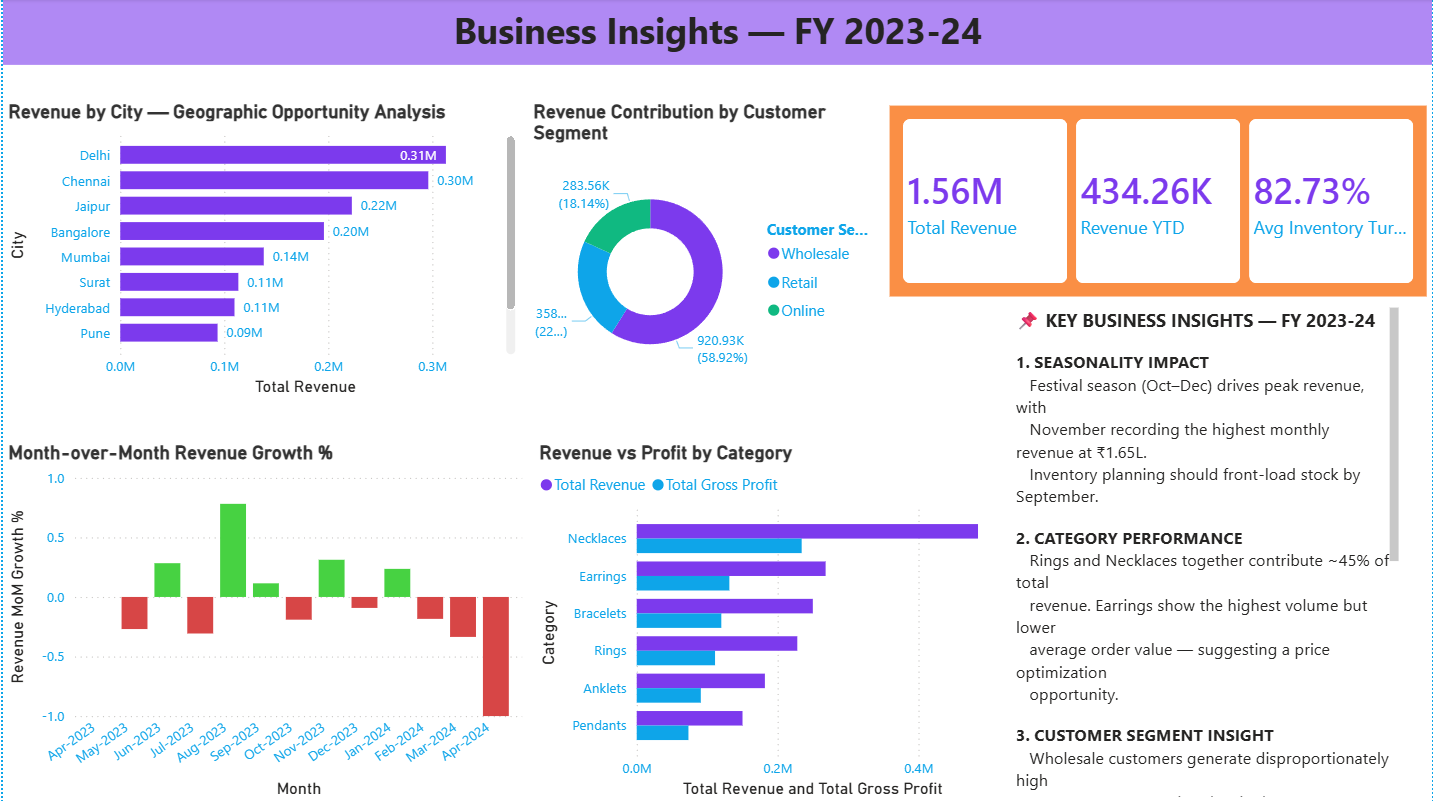

This screenshot's page, from the dashboard's own definition file:
{"tool":"powerbi","page":{"name":"Business Insights","canvas":[1280,720],"ordinal":3},"visuals":[{"type":"clusteredBarChart","title":"Revenue by City — Geographic Opportunity Analysis","fields":{"Category":["Sales_Transactions.City"],"Y":["_Measures.Total Revenue"]},"box":[0,90.2,463.7,269.7],"z":0},{"type":"clusteredColumnChart","title":"Month-over-Month Revenue Growth %","fields":{"Category":["Date_Table.Month"],"Y":["_Measures.Revenue MoM Growth %"]},"box":[0,395.4,470.1,324.3],"z":1000},{"type":"donutChart","title":"Revenue Contribution by Customer Segment","fields":{"Category":["Sales_Transactions.Customer Segment"],"Y":["_Measures.Total Revenue"]},"box":[470.1,90.2,318.9,269.7],"z":2000},{"type":"clusteredBarChart","title":"Revenue vs Profit by Category","fields":{"Category":["Product_Master.Category"],"Y":["_Measures.Total Revenue","_Measures.Total Gross Profit"]},"box":[475.6,395.4,426.4,324.3],"z":3000},{"type":"textbox","box":[901.9,271.5,353.5,448.2],"z":4000},{"type":"textbox","box":[0,0,1280,59.2],"z":5000},{"type":"cardVisual","fields":{"Data":["_Measures.Total Revenue","_Measures.Revenue YTD","_Measures.Avg Inventory Turnover"]},"box":[789,90.2,491,181.3],"z":6000}]}

Visuals, with their boxes in screenshot pixels (x1, y1, x2, y2), scaled from the page's 1280x720 canvas onto the 1433x801 screenshot:
"Revenue by City — Geographic Opportunity Analysis" clusteredBarChart: region(0, 100, 519, 400)
"Month-over-Month Revenue Growth %" clusteredColumnChart: region(0, 440, 526, 800)
"Revenue Contribution by Customer Segment" donutChart: region(526, 100, 883, 400)
"Revenue vs Profit by Category" clusteredBarChart: region(532, 440, 1010, 800)
textbox: region(1010, 302, 1405, 800)
textbox: region(0, 0, 1432, 66)
cardVisual - _Measures.Total Revenue x _Measures.Revenue YTD: region(883, 100, 1432, 302)
